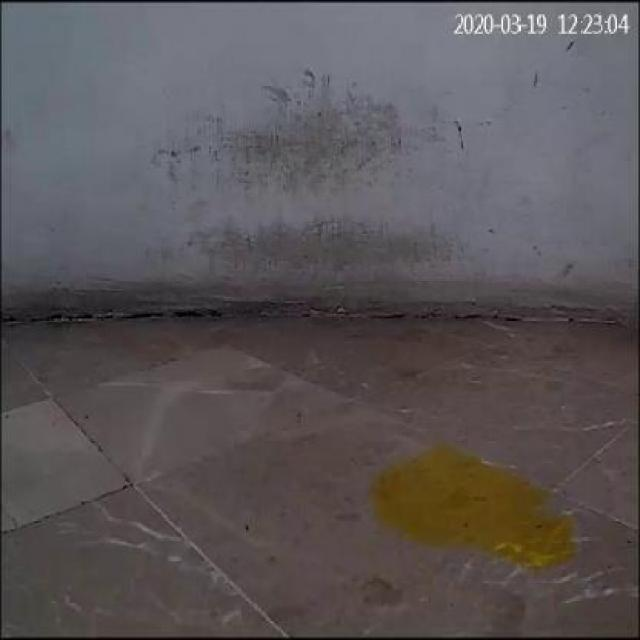spill: (352, 454, 576, 582)
